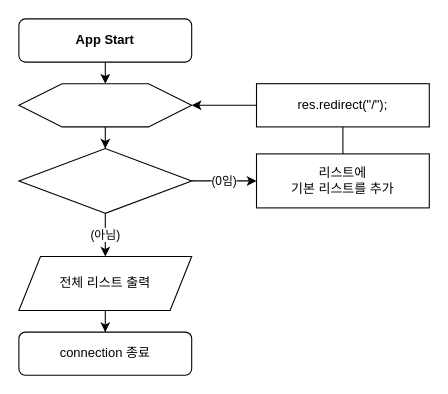
This 448x394 diagram has some shape labels left out. The shapes that lost their labels are listed below. From the top down, each one's centre as x and y in pixels, then its label:
pixel 105 105: " / "에 접속
pixel 105 180: 리스트 확인 (length가 0인가?)
